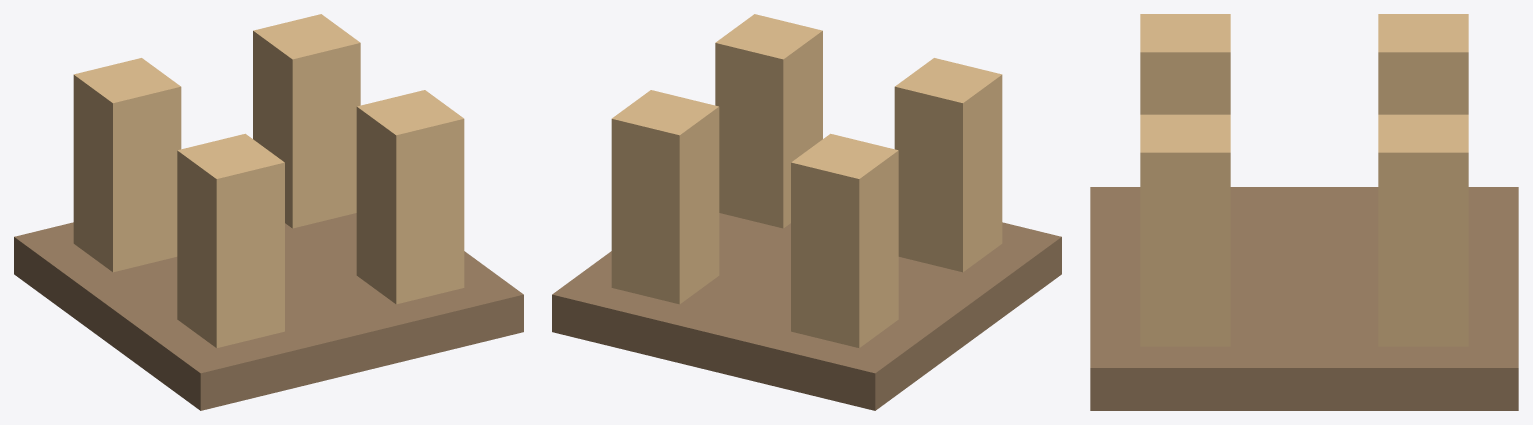
The model's file is Prop_DS_Crop_Bitroot_S3_V3.glb.
3 views of the same model, side by side, from view 1: azimuth 30°, elevation 25°; view 2: azimuth 150°, elevation 25°; view 3: azimuth 270°, elevation 25° (orthographic). The views are drawn at different scales.
Visible parts, largest first — view 1: Cube, Cube.003, Cube.001, Cube.002, Cube.004; view 2: Cube, Cube.004, Cube.002, Cube.001, Cube.003; view 3: Cube, Cube.003, Cube.004, Cube.001, Cube.002.
Part boxes in pixels (x1,y1,x2,y2): Cube: (14,213,523,410); Cube.003: (356,90,464,304); Cube.001: (177,133,284,348); Cube.002: (73,58,181,272); Cube.004: (253,14,360,228); Cube: (552,213,1061,410); Cube.004: (611,90,719,304); Cube.002: (791,133,898,348); Cube.001: (894,58,1002,272); Cube.003: (715,14,822,228); Cube: (1090,187,1518,410); Cube.003: (1140,114,1230,346); Cube.004: (1378,114,1468,346); Cube.001: (1140,14,1230,114); Cube.002: (1378,14,1468,114).
Bounding box in the file's own units: 0.9 × 0.55 × 0.9.
